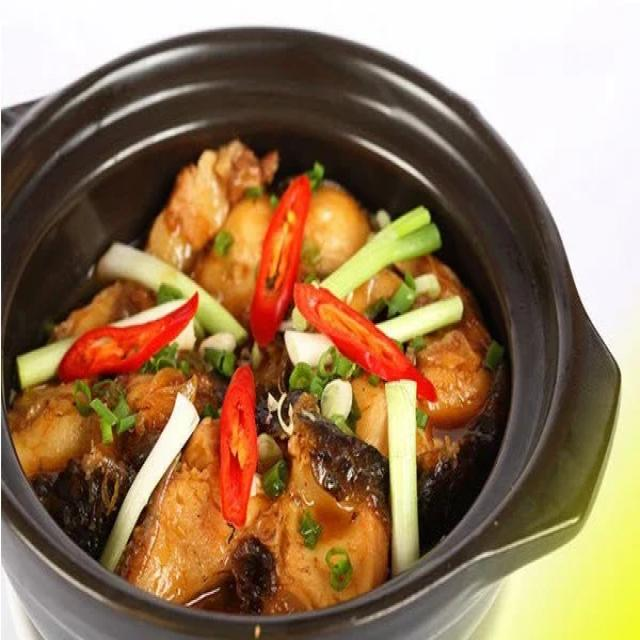ca kho: (4, 133, 510, 617)
